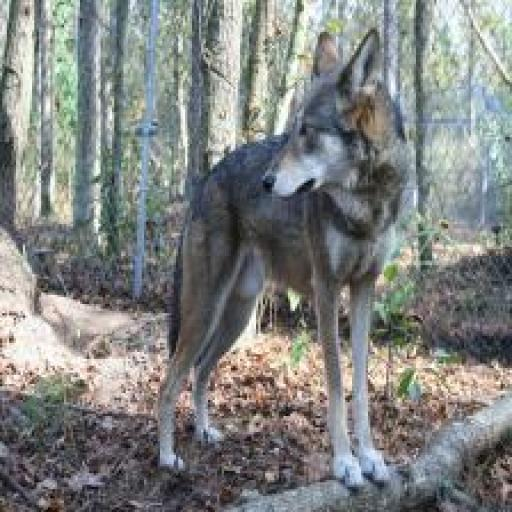wolf: (158, 25, 414, 495)
